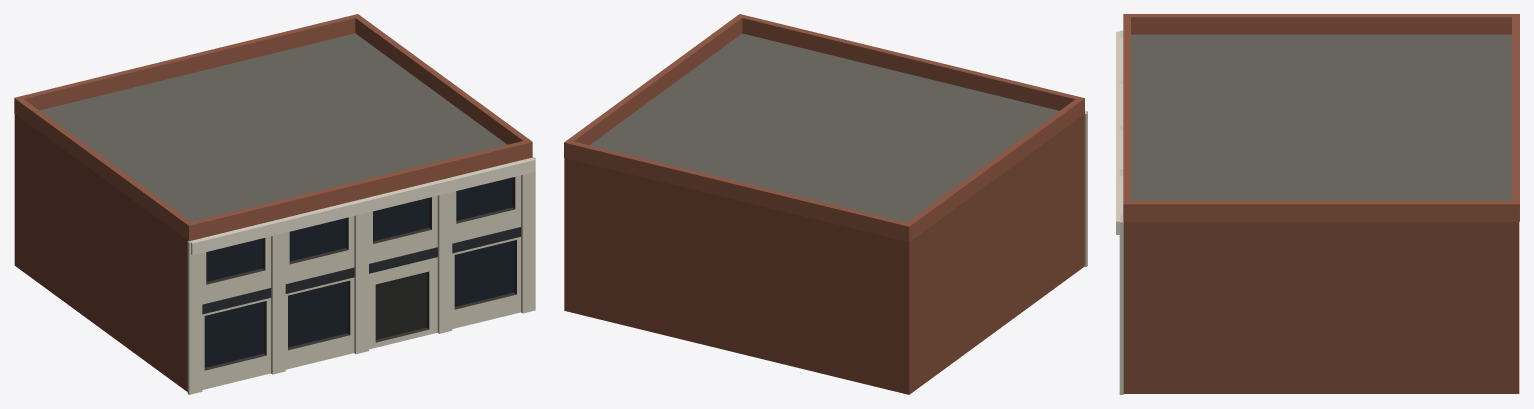
File: bank-1913-b13397.glb
3 renders of one model, left to right at view 1: azimuth 30°, elevation 25°; view 2: azimuth 150°, elevation 25°; view 3: azimuth 270°, elevation 25°, orthographic. The views are drawn at different scales.
Parts seen in each view (by area): view 1: kit-bank-1913-b13397; view 2: kit-bank-1913-b13397; view 3: kit-bank-1913-b13397.
Boxes of the visible parts, left/top/right/bottom form: kit-bank-1913-b13397: left=14, top=14, right=535, bottom=394; kit-bank-1913-b13397: left=564, top=14, right=1087, bottom=394; kit-bank-1913-b13397: left=1116, top=14, right=1519, bottom=394.
Size of the model in its own units: 21.2 by 9.8 by 18.87.
